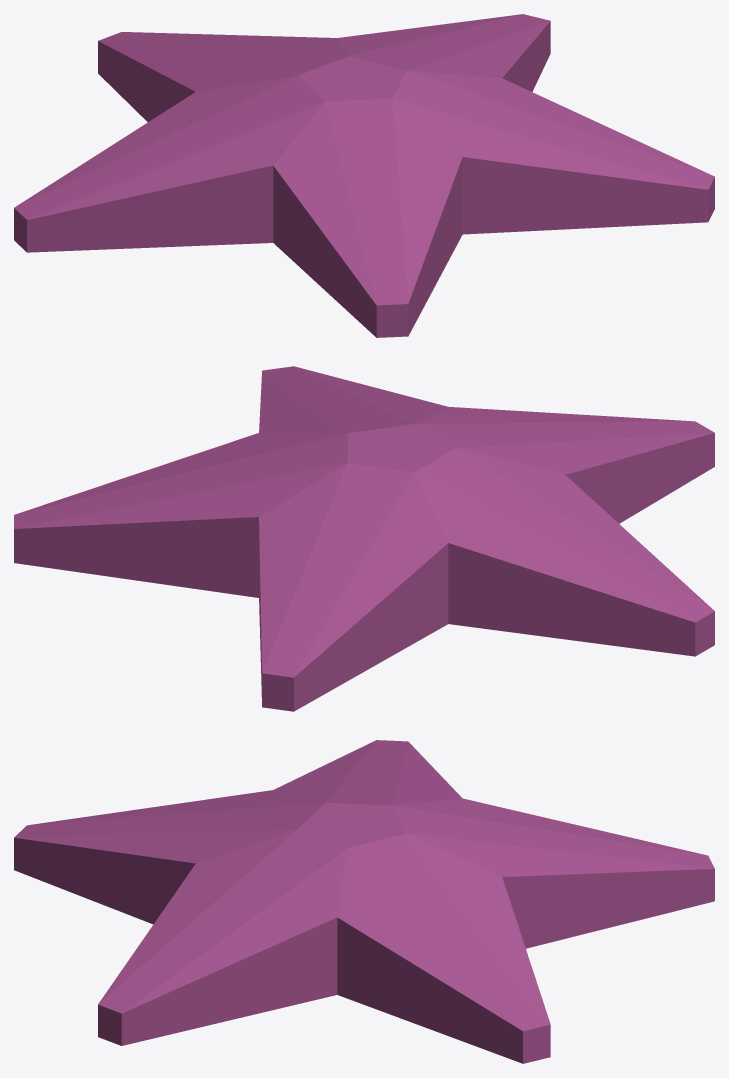
Rendered from Starfish1_tex.fbx.
The picture shows the model from 3 angles, top to bottom: view 1: azimuth 30°, elevation 25°; view 2: azimuth 150°, elevation 25°; view 3: azimuth 270°, elevation 25°; orthographic projection. The views are drawn at different scales.
Visible parts, largest first — view 1: Starfish1_tex; view 2: Starfish1_tex; view 3: Starfish1_tex.
Part boxes in pixels (<box>): Starfish1_tex: <box>14,14,714,337</box>; Starfish1_tex: <box>14,366,714,711</box>; Starfish1_tex: <box>14,740,714,1063</box>.
Size of the model in its own units: 0.625 by 0.1031 by 0.6354.
